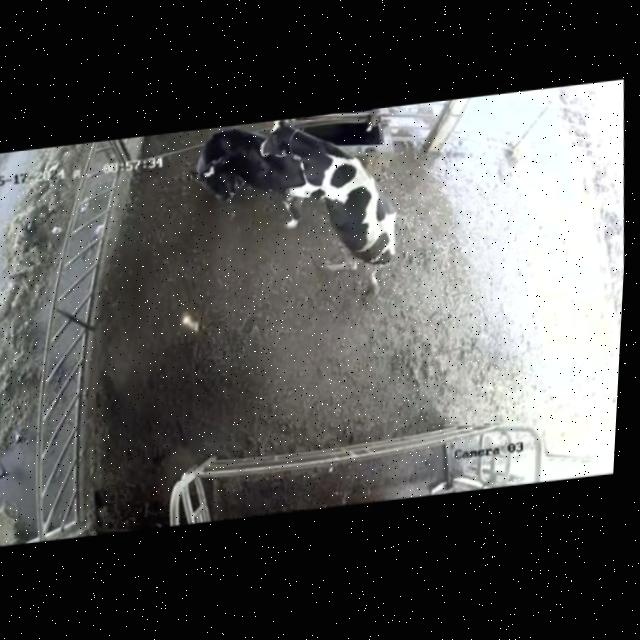ride: (244, 101, 421, 326)
stand: (178, 117, 311, 238)
